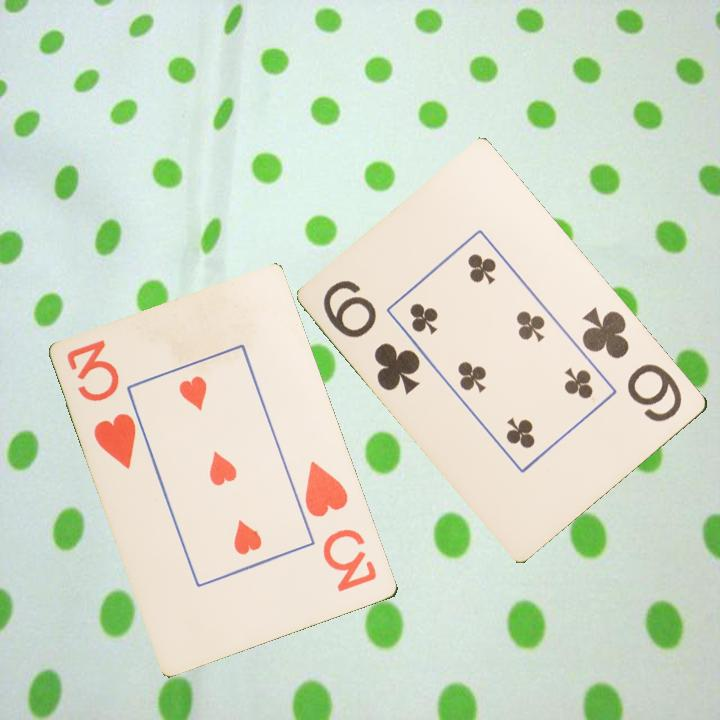3h: (301, 458, 381, 595), (63, 336, 140, 473)
6c: (579, 303, 686, 425), (319, 276, 424, 398)
